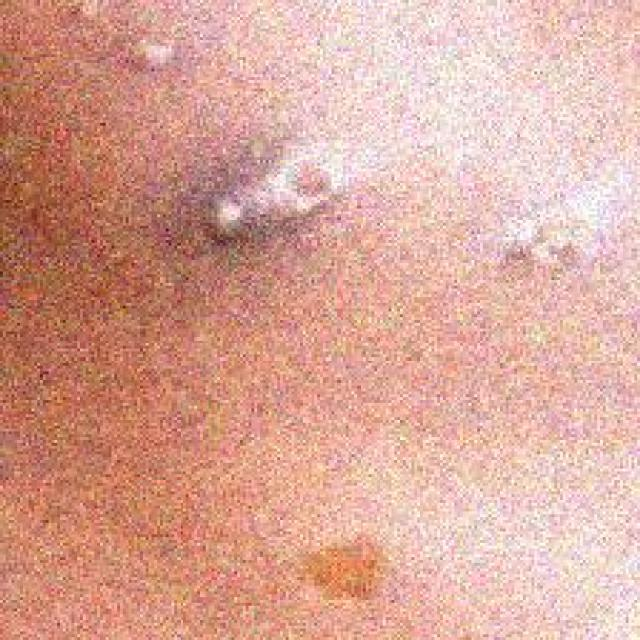monkeypox: (57, 0, 623, 640)
